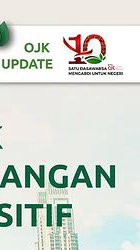ojk: (107, 63, 127, 71)
